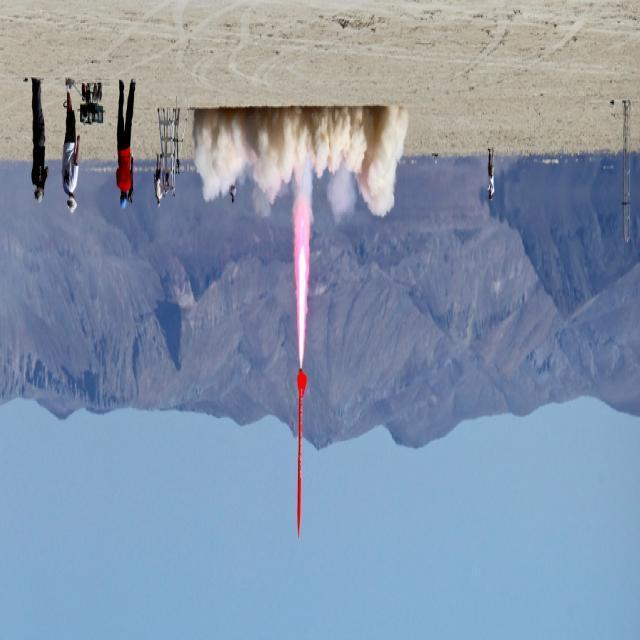Missile: (293, 362, 309, 547)
